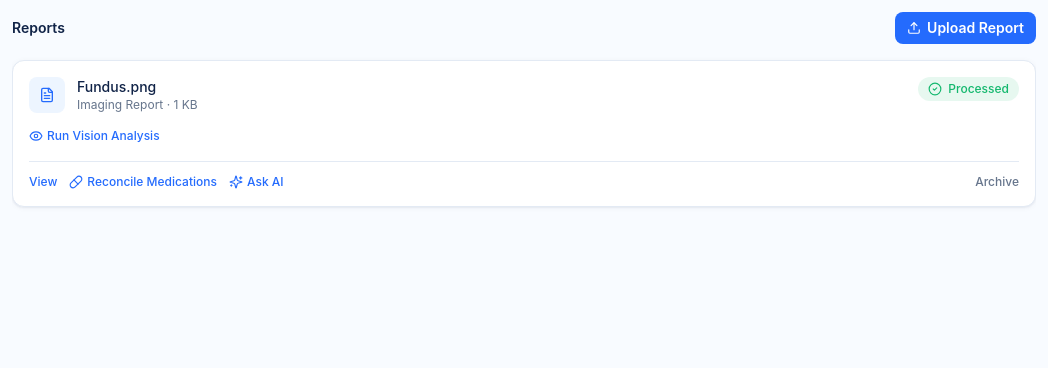
Test: Vision analysis on the Reports tab › offers to run vision analysis for an unanalyzed image report, and shows the result once run
The width and height of the screenshot is (1048, 368).
Click the button "Run Vision Analysis" at (94, 136), box x1=29 y1=128 x2=160 y2=144
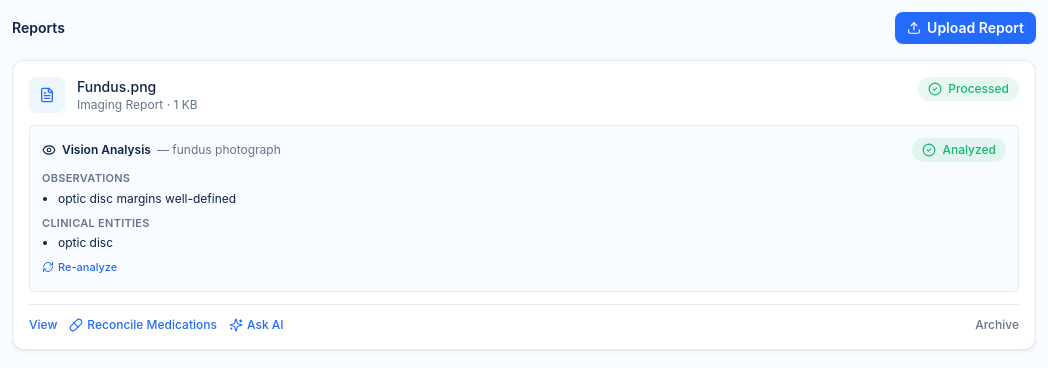
Now the list item "optic disc margins well-defined" is shown, box x1=58 y1=190 x2=236 y2=206
Now the text "— fundus photograph" is shown, box x1=157 y1=142 x2=281 y2=158
